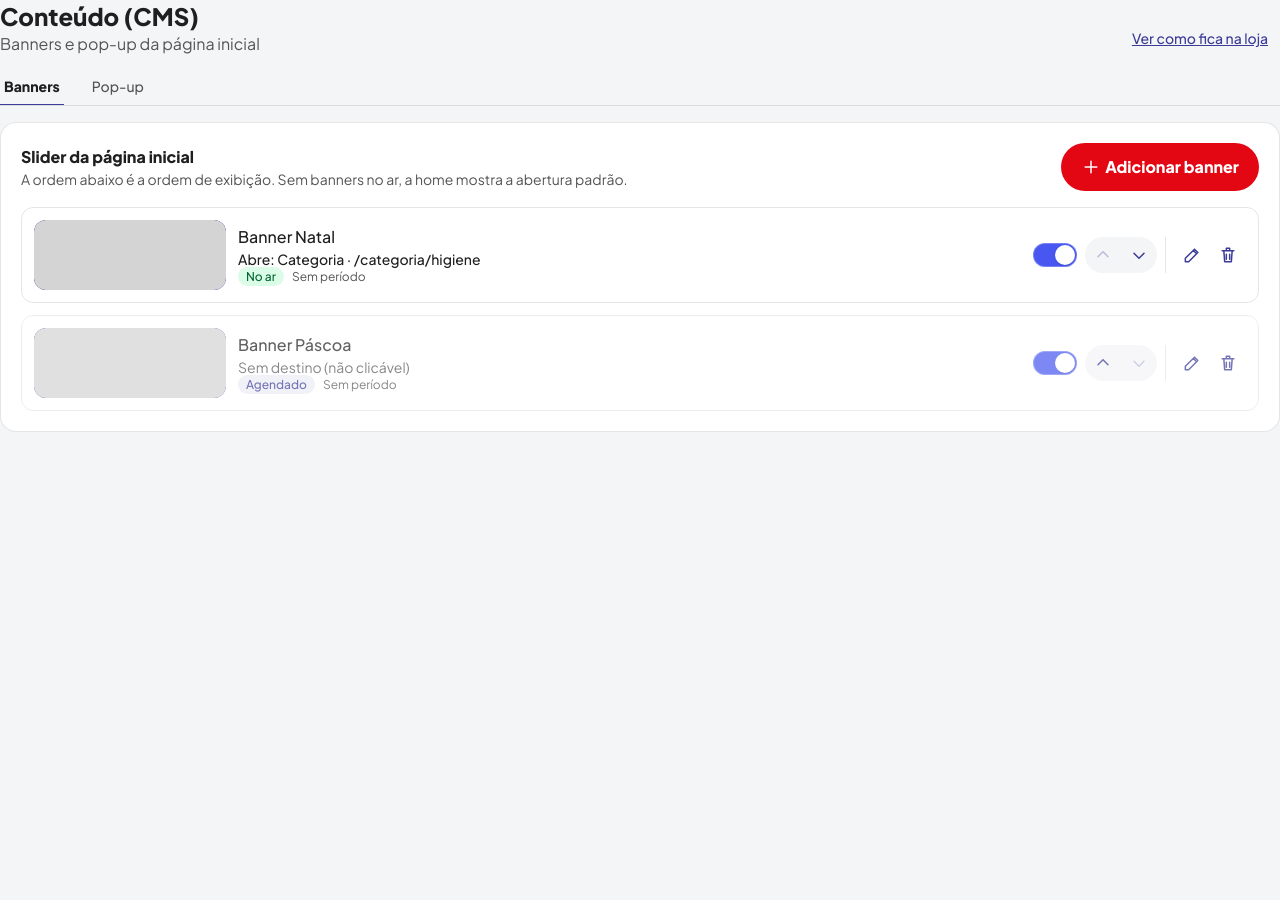
Scenario: CMS: pop-up › situação Expirado ao lado do título
Click the tab "Pop-up" at (118, 91), box [88, 76, 148, 106]
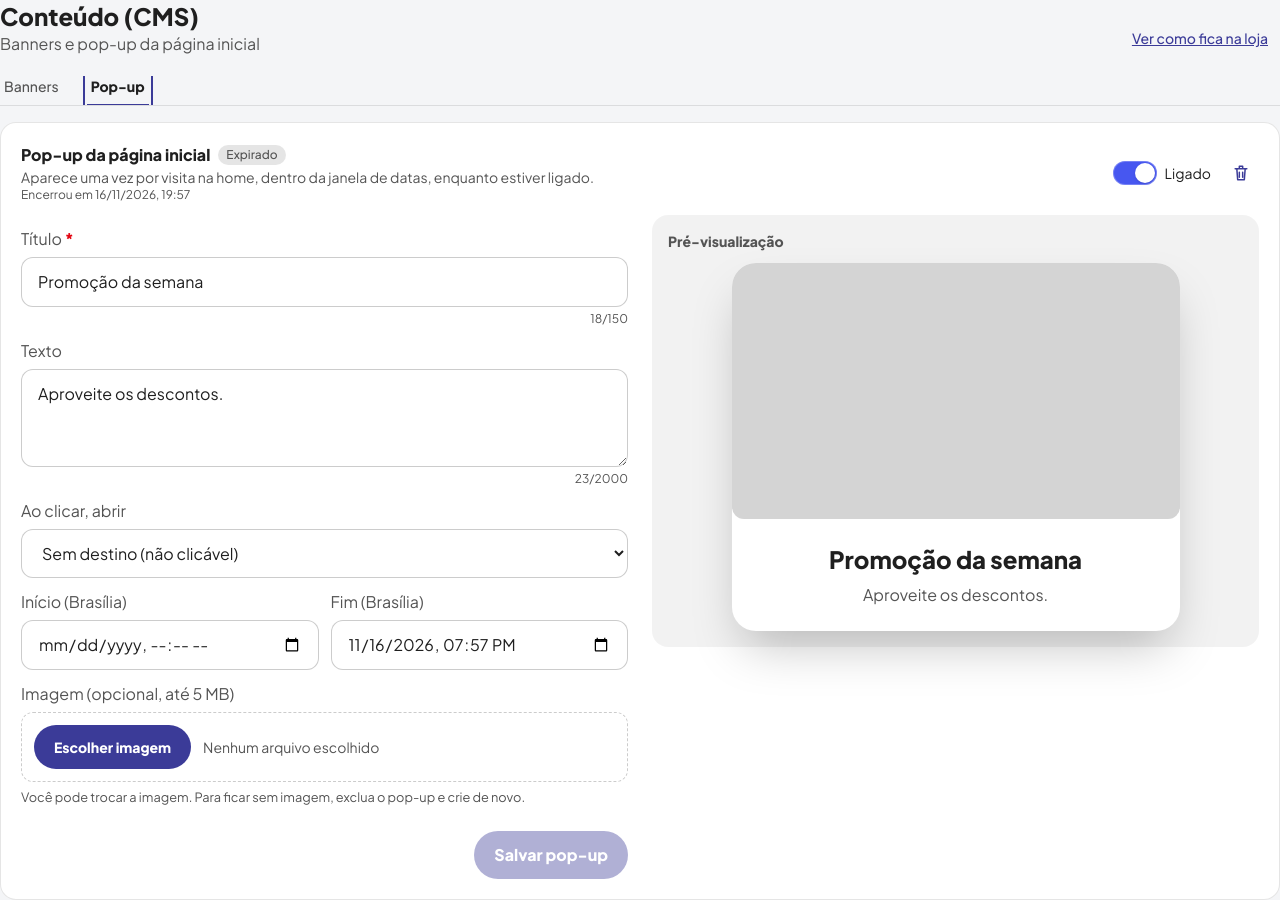
Result: the heading "Pop-up da página inicial" is shown at [21, 143, 210, 167]
Result: the text "Expirado" is shown at [218, 145, 286, 165]
Result: the text "Encerrou em 16/11/2026, 19:57" is shown at [21, 187, 190, 202]
